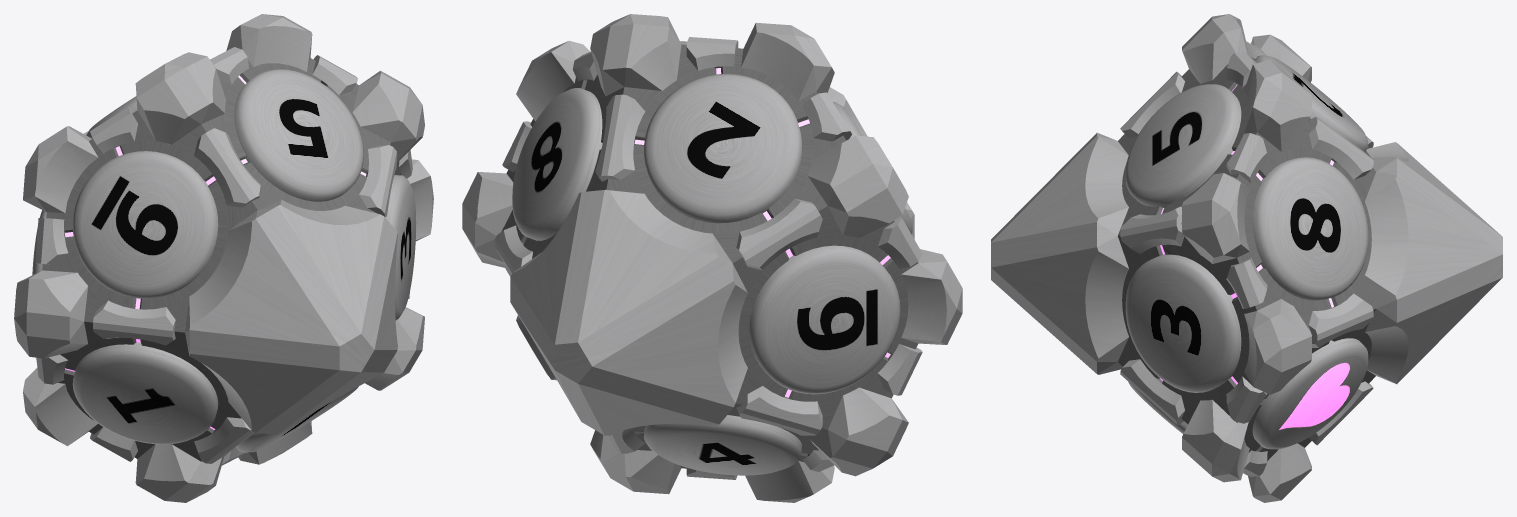
Rendered from wcube_d10.glb.
3 views of the same model, side by side, from view 1: azimuth 30°, elevation 25°; view 2: azimuth 150°, elevation 25°; view 3: azimuth 270°, elevation 25° (orthographic). The views are drawn at different scales.
Visible parts, largest first — view 1: d10_heart; view 2: d10_heart; view 3: d10_heart.
Boxes of the visible parts, x1,y1,x2,y2 form: d10_heart: [14, 14, 433, 502]; d10_heart: [462, 14, 962, 502]; d10_heart: [991, 14, 1502, 502].
Size of the model in its own units: 184 by 175 by 191.
1 material, 1 textured.
